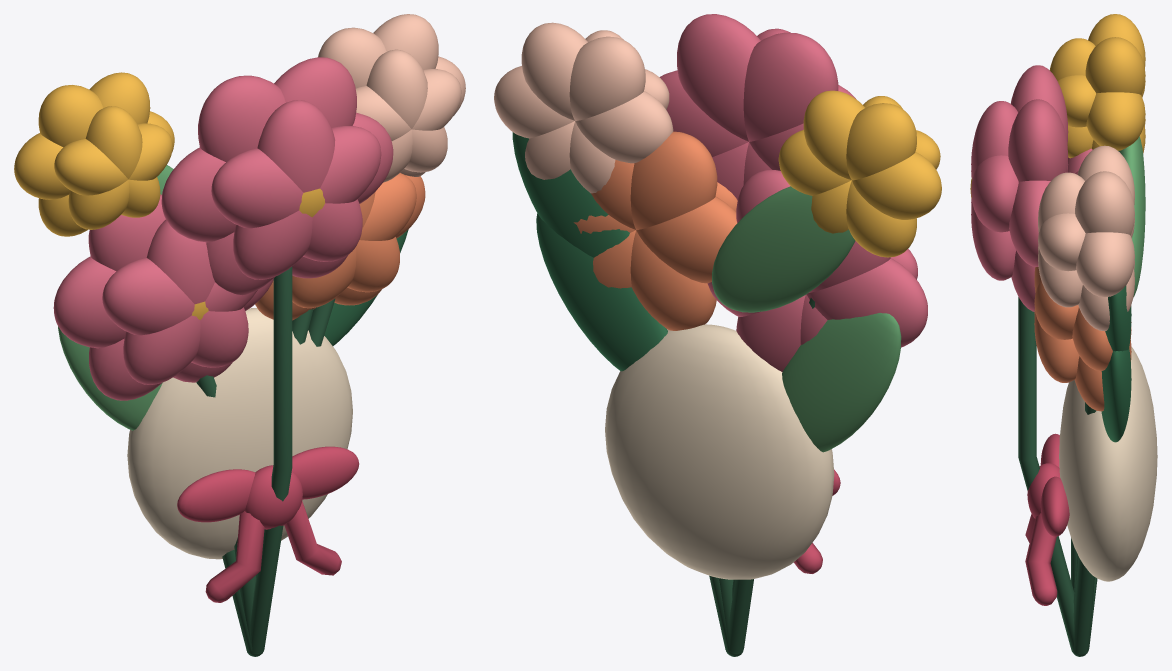
File: giveFlowers.glb
The picture shows the model from 3 angles, left to right: view 1: azimuth 30°, elevation 25°; view 2: azimuth 150°, elevation 25°; view 3: azimuth 270°, elevation 25°; orthographic projection. The views are drawn at different scales.
Visible parts, largest first — view 1: Prop_giveFlowers_Zyra_Flowers_Rose, Prop_giveFlowers_Zyra_Flowers_Wrap, Prop_giveFlowers_Zyra_Flowers_Gold, Prop_giveFlowers_Zyra_Flowers_PetalLight, Prop_giveFlowers_Zyra_Flowers_Ribbon, Prop_giveFlowers_Zyra_Flowers_Stem, Prop_giveFlowers_Zyra_Flowers_Coral, Prop_giveFlowers_Zyra_Flowers_LeafLight, Prop_giveFlowers_Zyra_Flowers_Leaf; view 2: Prop_giveFlowers_Zyra_Flowers_Wrap, Prop_giveFlowers_Zyra_Flowers_Rose, Prop_giveFlowers_Zyra_Flowers_LeafLight, Prop_giveFlowers_Zyra_Flowers_PetalLight, Prop_giveFlowers_Zyra_Flowers_Coral, Prop_giveFlowers_Zyra_Flowers_Gold, Prop_giveFlowers_Zyra_Flowers_Leaf, Prop_giveFlowers_Zyra_Flowers_Stem, Prop_giveFlowers_Zyra_Flowers_Ribbon; view 3: Prop_giveFlowers_Zyra_Flowers_Rose, Prop_giveFlowers_Zyra_Flowers_Wrap, Prop_giveFlowers_Zyra_Flowers_PetalLight, Prop_giveFlowers_Zyra_Flowers_Gold, Prop_giveFlowers_Zyra_Flowers_Stem, Prop_giveFlowers_Zyra_Flowers_Coral, Prop_giveFlowers_Zyra_Flowers_Ribbon, Prop_giveFlowers_Zyra_Flowers_Leaf, Prop_giveFlowers_Zyra_Flowers_LeafLight.
Boxes of the visible parts, <box> form: Prop_giveFlowers_Zyra_Flowers_Rose: <box>53,57,393,400</box>; Prop_giveFlowers_Zyra_Flowers_Wrap: <box>127,308,352,559</box>; Prop_giveFlowers_Zyra_Flowers_Gold: <box>14,72,325,319</box>; Prop_giveFlowers_Zyra_Flowers_PetalLight: <box>318,14,465,182</box>; Prop_giveFlowers_Zyra_Flowers_Ribbon: <box>177,446,359,602</box>; Prop_giveFlowers_Zyra_Flowers_Stem: <box>196,266,335,656</box>; Prop_giveFlowers_Zyra_Flowers_Coral: <box>255,173,425,320</box>; Prop_giveFlowers_Zyra_Flowers_LeafLight: <box>58,165,173,430</box>; Prop_giveFlowers_Zyra_Flowers_Leaf: <box>324,229,408,345</box>; Prop_giveFlowers_Zyra_Flowers_Wrap: <box>605,324,834,579</box>; Prop_giveFlowers_Zyra_Flowers_Rose: <box>659,14,927,371</box>; Prop_giveFlowers_Zyra_Flowers_LeafLight: <box>712,186,901,452</box>; Prop_giveFlowers_Zyra_Flowers_PetalLight: <box>494,22,673,193</box>; Prop_giveFlowers_Zyra_Flowers_Coral: <box>573,131,737,330</box>; Prop_giveFlowers_Zyra_Flowers_Gold: <box>778,90,941,257</box>; Prop_giveFlowers_Zyra_Flowers_Leaf: <box>512,132,667,371</box>; Prop_giveFlowers_Zyra_Flowers_Stem: <box>709,298,814,656</box>; Prop_giveFlowers_Zyra_Flowers_Ribbon: <box>794,469,840,573</box>; Prop_giveFlowers_Zyra_Flowers_Rose: <box>971,65,1092,311</box>; Prop_giveFlowers_Zyra_Flowers_Wrap: <box>1059,346,1157,581</box>; Prop_giveFlowers_Zyra_Flowers_PetalLight: <box>1038,145,1134,331</box>; Prop_giveFlowers_Zyra_Flowers_Gold: <box>970,14,1145,198</box>; Prop_giveFlowers_Zyra_Flowers_Stem: <box>1018,297,1097,656</box>; Prop_giveFlowers_Zyra_Flowers_Coral: <box>1034,267,1131,411</box>; Prop_giveFlowers_Zyra_Flowers_Ribbon: <box>1025,433,1069,605</box>; Prop_giveFlowers_Zyra_Flowers_Leaf: <box>1101,285,1131,442</box>; Prop_giveFlowers_Zyra_Flowers_LeafLight: <box>1118,136,1145,297</box>.
Bounding box in the file's own units: 0.682 × 0.8931 × 0.266.
